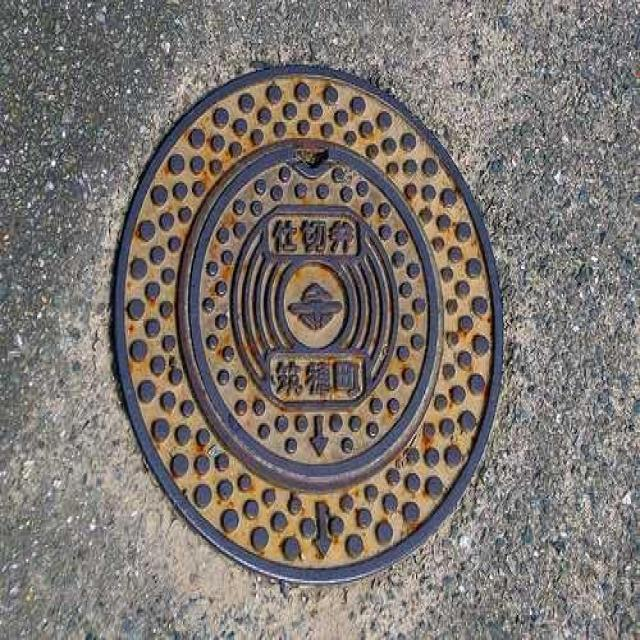manhole: (113, 65, 503, 566)
